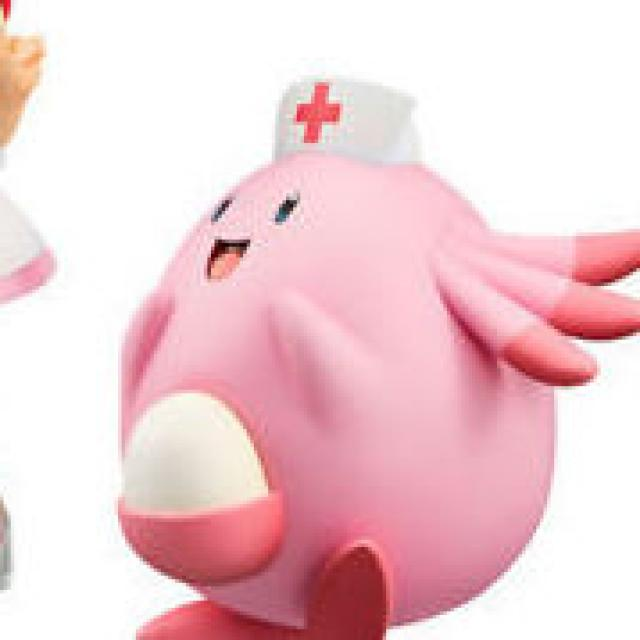Chansey: (107, 160, 568, 640)
